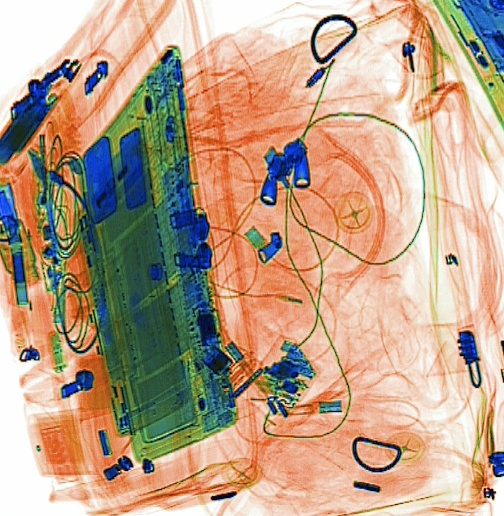powerbank: (1, 77, 67, 170)
